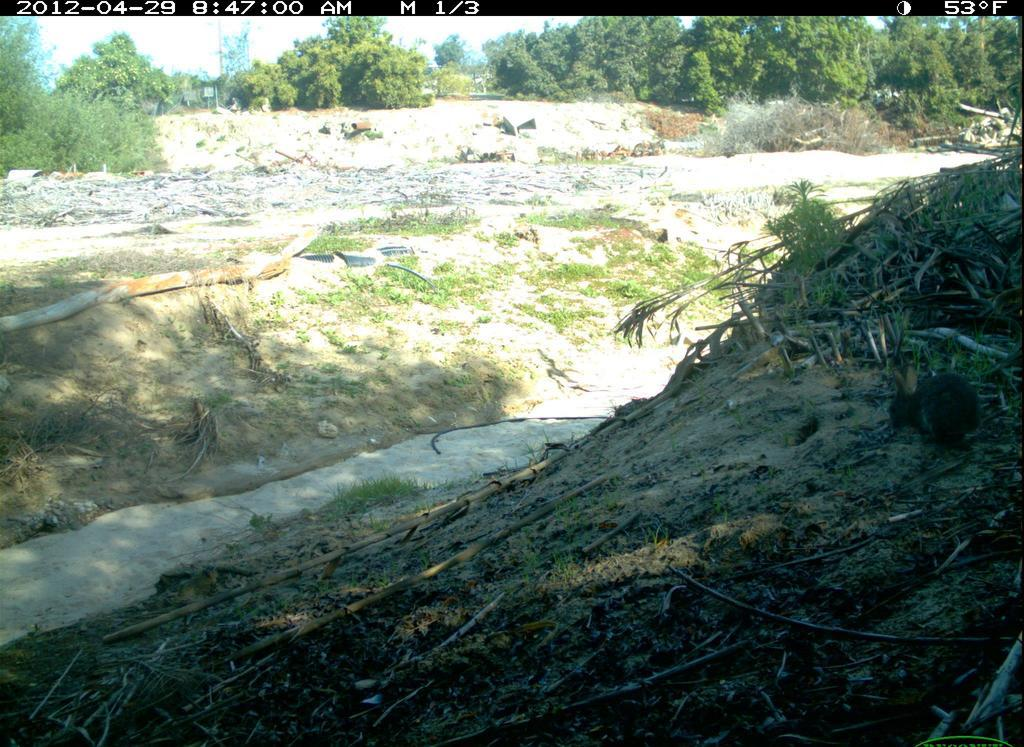rabbit: (881, 360, 987, 458)
